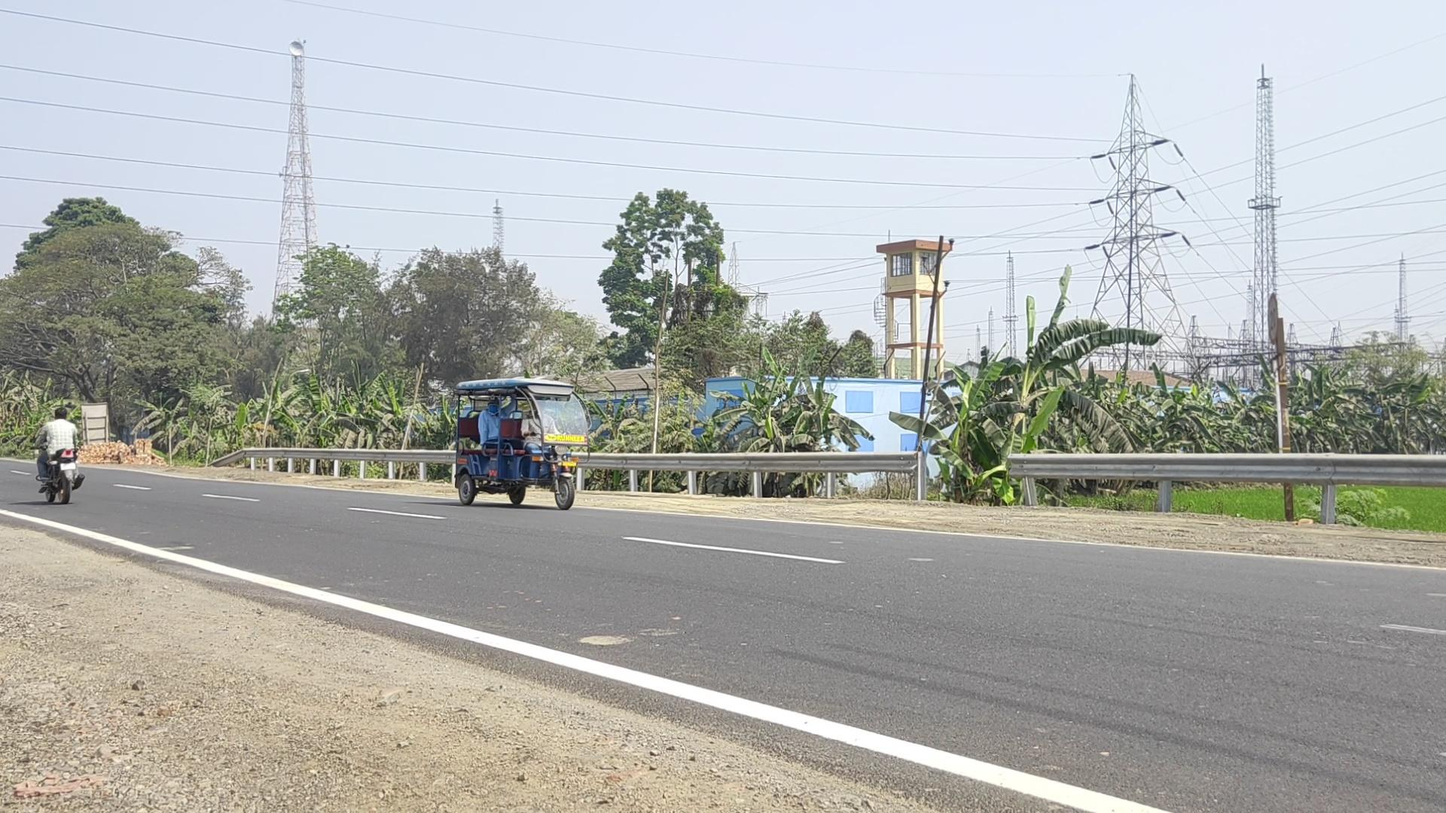Auto: (453, 378, 590, 511)
bike: (30, 407, 85, 505)
